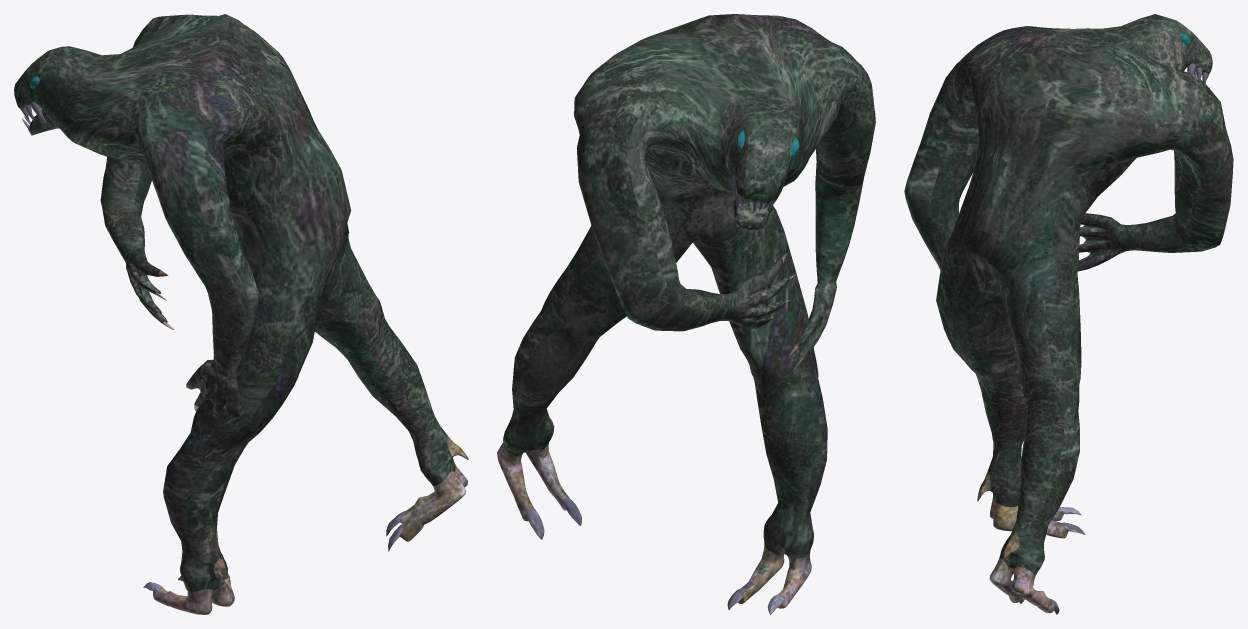
The model's file is Aranar.0014.obj.
3 renders of one model, left to right at view 1: azimuth 30°, elevation 25°; view 2: azimuth 150°, elevation 25°; view 3: azimuth 270°, elevation 25°, orthographic. The views are drawn at different scales.
Parts seen in each view (by area): view 1: polySurface28; view 2: polySurface28; view 3: polySurface28.
Boxes of the visible parts, x1,y1,x2,y2 form: polySurface28: (14,14,468,614); polySurface28: (497,14,875,614); polySurface28: (904,14,1233,614).
Bounding box in the file's own units: 1.43 × 2.08 × 1.22.
4 materials, 4 textured.
